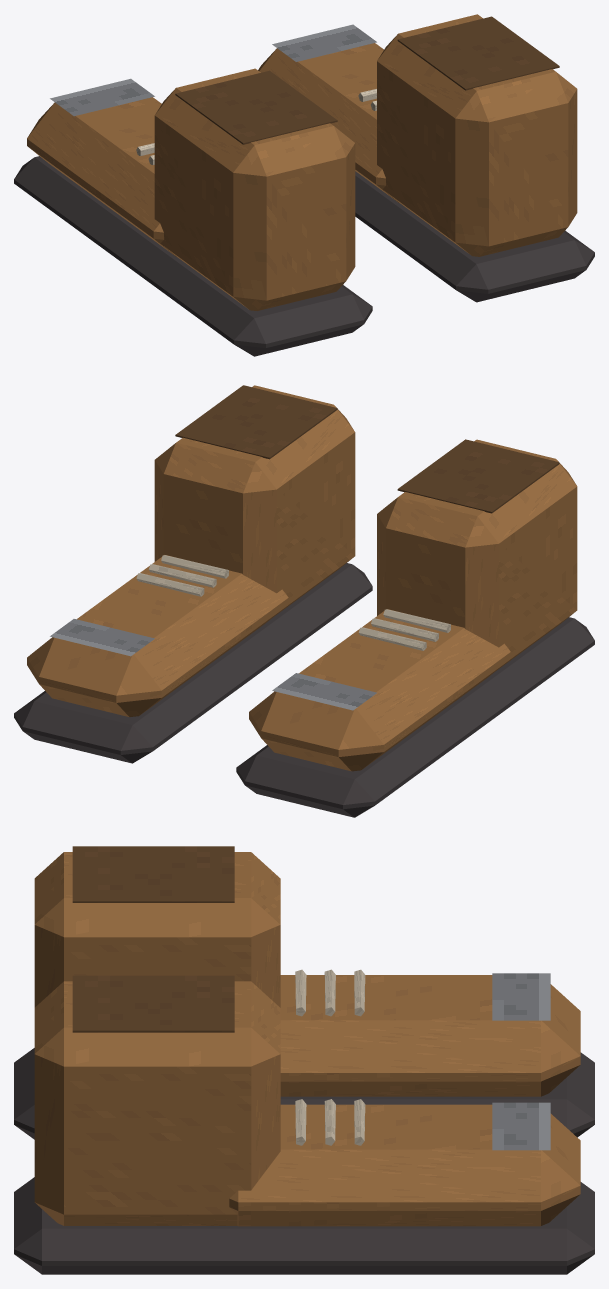
Rendered from boots_steel.glb.
3 renders of one model, top to bottom at view 1: azimuth 30°, elevation 25°; view 2: azimuth 150°, elevation 25°; view 3: azimuth 270°, elevation 25°, orthographic. The views are drawn at different scales.
Visible parts, largest first — view 1: block_shaft (×2), block_shaped sole (×2), block_vamp and toe (×2), block_opening (×2), block_reinforced toe panel (×2); view 2: block_shaft (×2), block_vamp and toe (×2), block_shaped sole (×2), block_opening (×2), block_reinforced toe panel (×2), block_lace (×6); view 3: block_shaft (×2), block_vamp and toe (×2), block_shaped sole (×2), block_opening (×2), block_reinforced toe panel (×2).
Part boxes in pixels (left/top/right/bottom): block_shaft (×2): left=154, top=14, right=577, bottom=310; block_shaped sole (×2): left=14, top=156, right=594, bottom=356; block_vamp and toe (×2): left=27, top=43, right=398, bottom=256; block_opening (×2): left=175, top=16, right=559, bottom=144; block_reinforced toe panel (×2): left=50, top=24, right=376, bottom=116; block_shaft (×2): left=154, top=385, right=577, bottom=670; block_vamp and toe (×2): left=27, top=555, right=510, bottom=771; block_shaped sole (×2): left=14, top=563, right=594, bottom=817; block_opening (×2): left=175, top=385, right=559, bottom=513; block_reinforced toe panel (×2): left=50, top=619, right=376, bottom=710; block_lace (×6): left=136, top=555, right=450, bottom=650; block_shaft (×2): left=34, top=852, right=280, bottom=1225; block_vamp and toe (×2): left=229, top=975, right=580, bottom=1226; block_shaped sole (×2): left=14, top=1048, right=594, bottom=1274; block_opening (×2): left=72, top=846, right=234, bottom=1032; block_reinforced toe panel (×2): left=492, top=973, right=550, bottom=1150.
Size of the model in its own units: 0.2446 by 0.1317 by 0.2856.
Materials: 1 (1 with a texture image).
